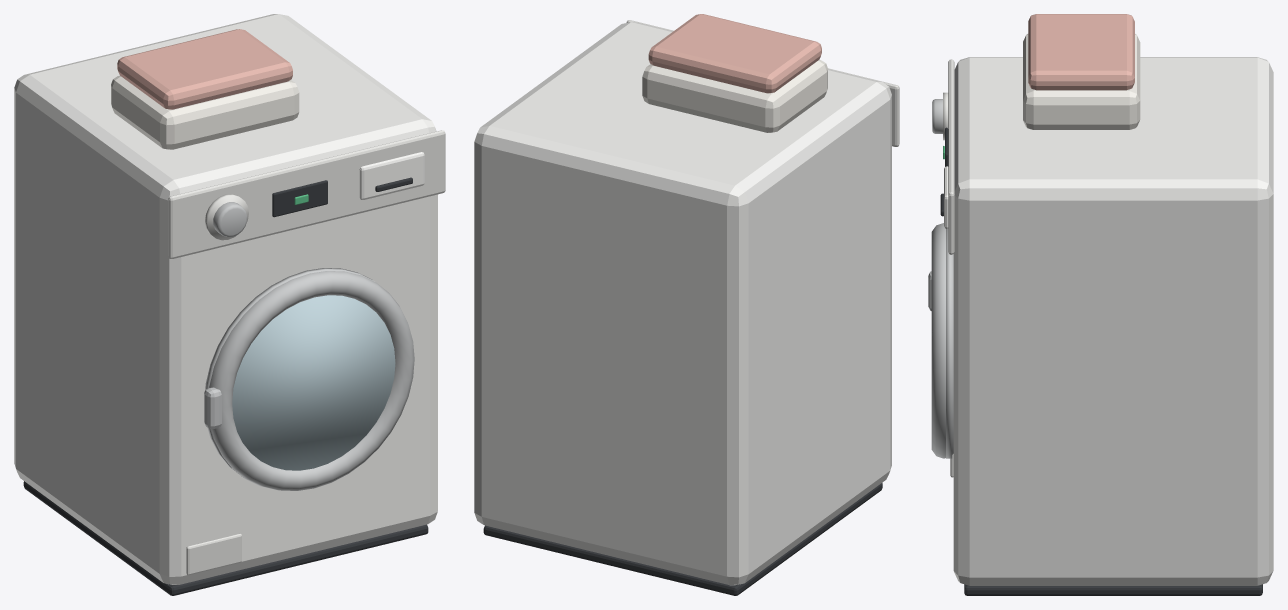
The model's file is laundryWasher.glb.
The picture shows the model from 3 angles, left to right: view 1: azimuth 30°, elevation 25°; view 2: azimuth 150°, elevation 25°; view 3: azimuth 270°, elevation 25°; orthographic projection.
Parts seen in each view (by area): view 1: body, door; view 2: body; view 3: body, door.
Part boxes in pixels (x1,y1,x2,y2): body: (14,14,445,595); door: (204,268,414,490); body: (474,14,899,595); body: (932,14,1273,595); door: (928,223,953,458).
Size of the model in its own units: 0.6 by 0.98 by 0.647.
